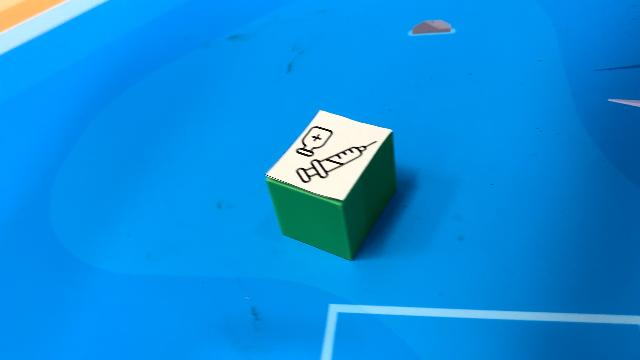syringe: (264, 108, 400, 262)
